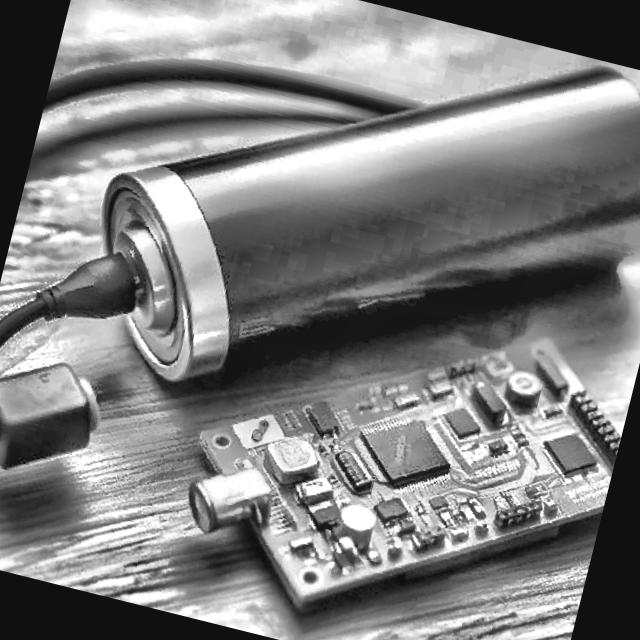Battery: (65, 0, 640, 483)
Cable: (41, 0, 422, 205)
PCB: (158, 258, 640, 640)
